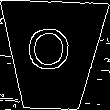O_S: (30, 29, 76, 82)
